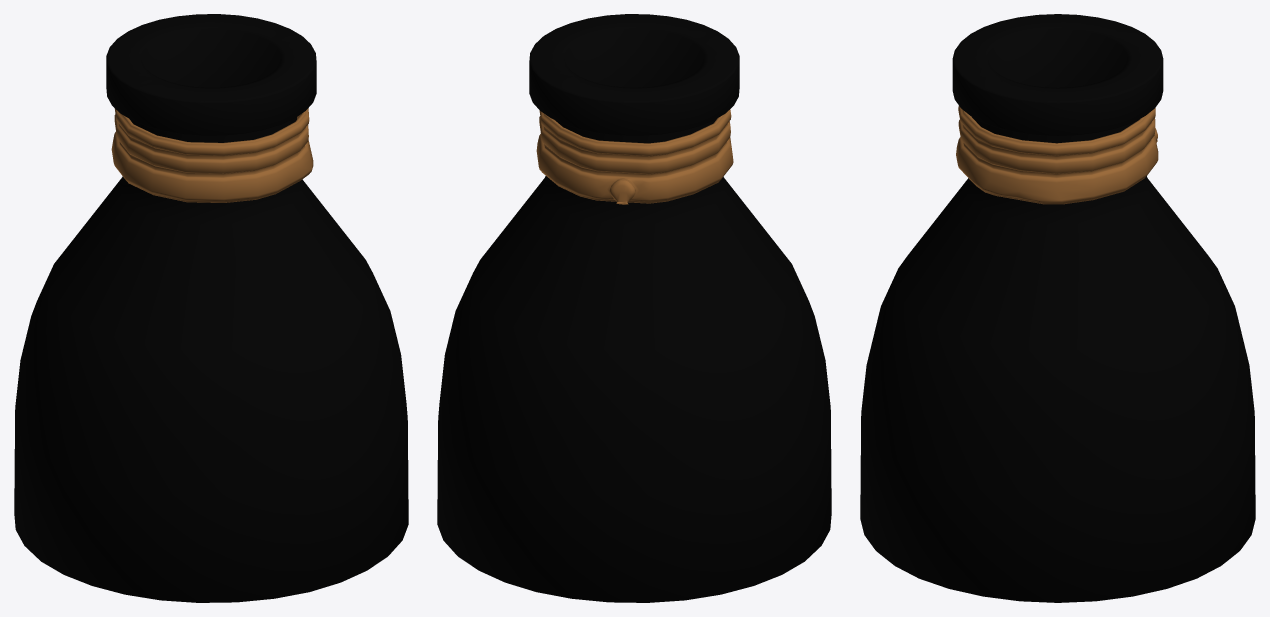
The model's file is Green_Liquid.fbx.
The picture shows the model from 3 angles, left to right: view 1: azimuth 30°, elevation 25°; view 2: azimuth 150°, elevation 25°; view 3: azimuth 270°, elevation 25°; orthographic projection.
Parts seen in each view (by area): view 1: flask; view 2: flask; view 3: flask.
Part boxes in pixels (x1,y1,x2,y2): flask: (14,14,408,602); flask: (437,14,831,602); flask: (860,14,1255,602).
Bounding box in the file's own units: 226 × 293 × 226.
